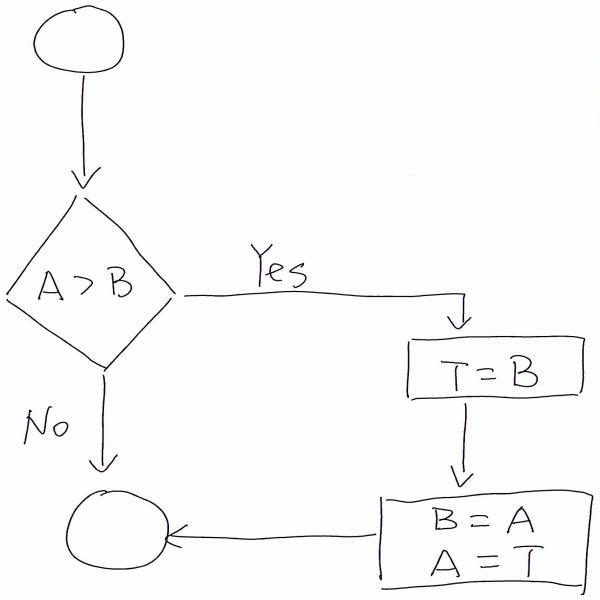arrow: (181, 284, 473, 332), (168, 518, 370, 552), (85, 372, 122, 474), (70, 80, 100, 188), (453, 404, 477, 497)
decision: (5, 187, 182, 373)
process: (376, 495, 590, 588), (411, 336, 582, 395)
terminator: (66, 489, 168, 573), (34, 9, 126, 72)
text: (439, 347, 542, 392), (32, 265, 138, 304), (242, 240, 316, 291), (22, 408, 68, 444)
